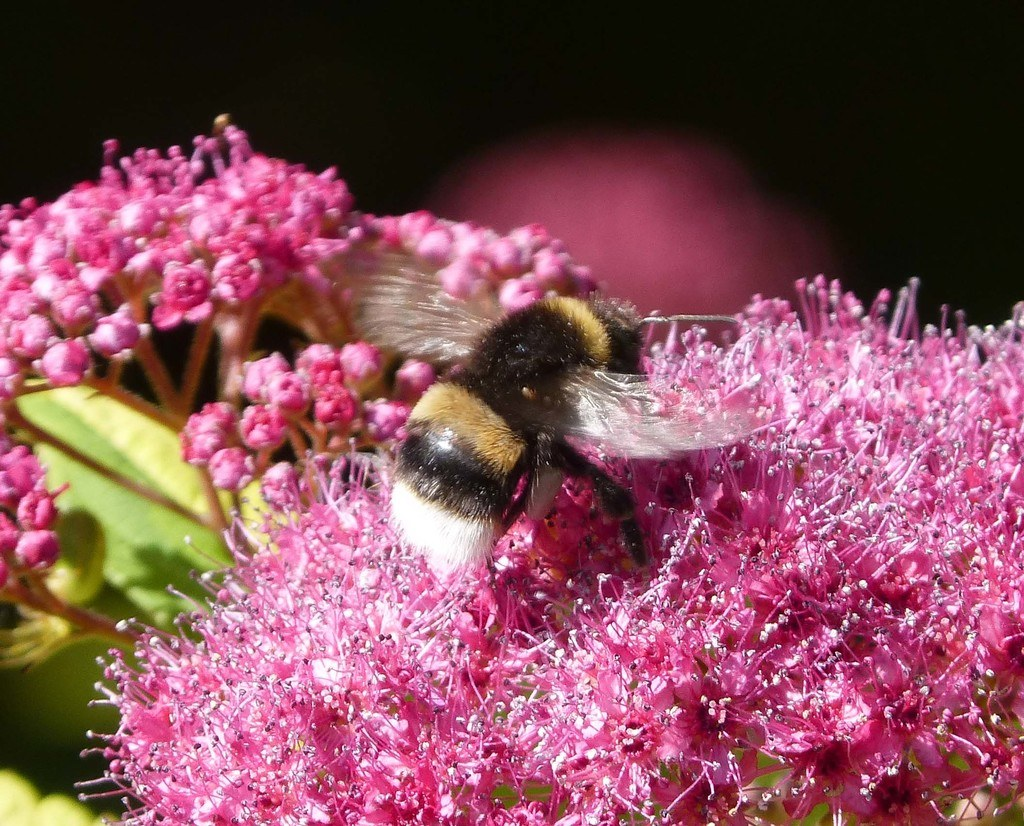bee: (349, 248, 780, 600)
insect: (0, 106, 1023, 824), (146, 257, 220, 332)
